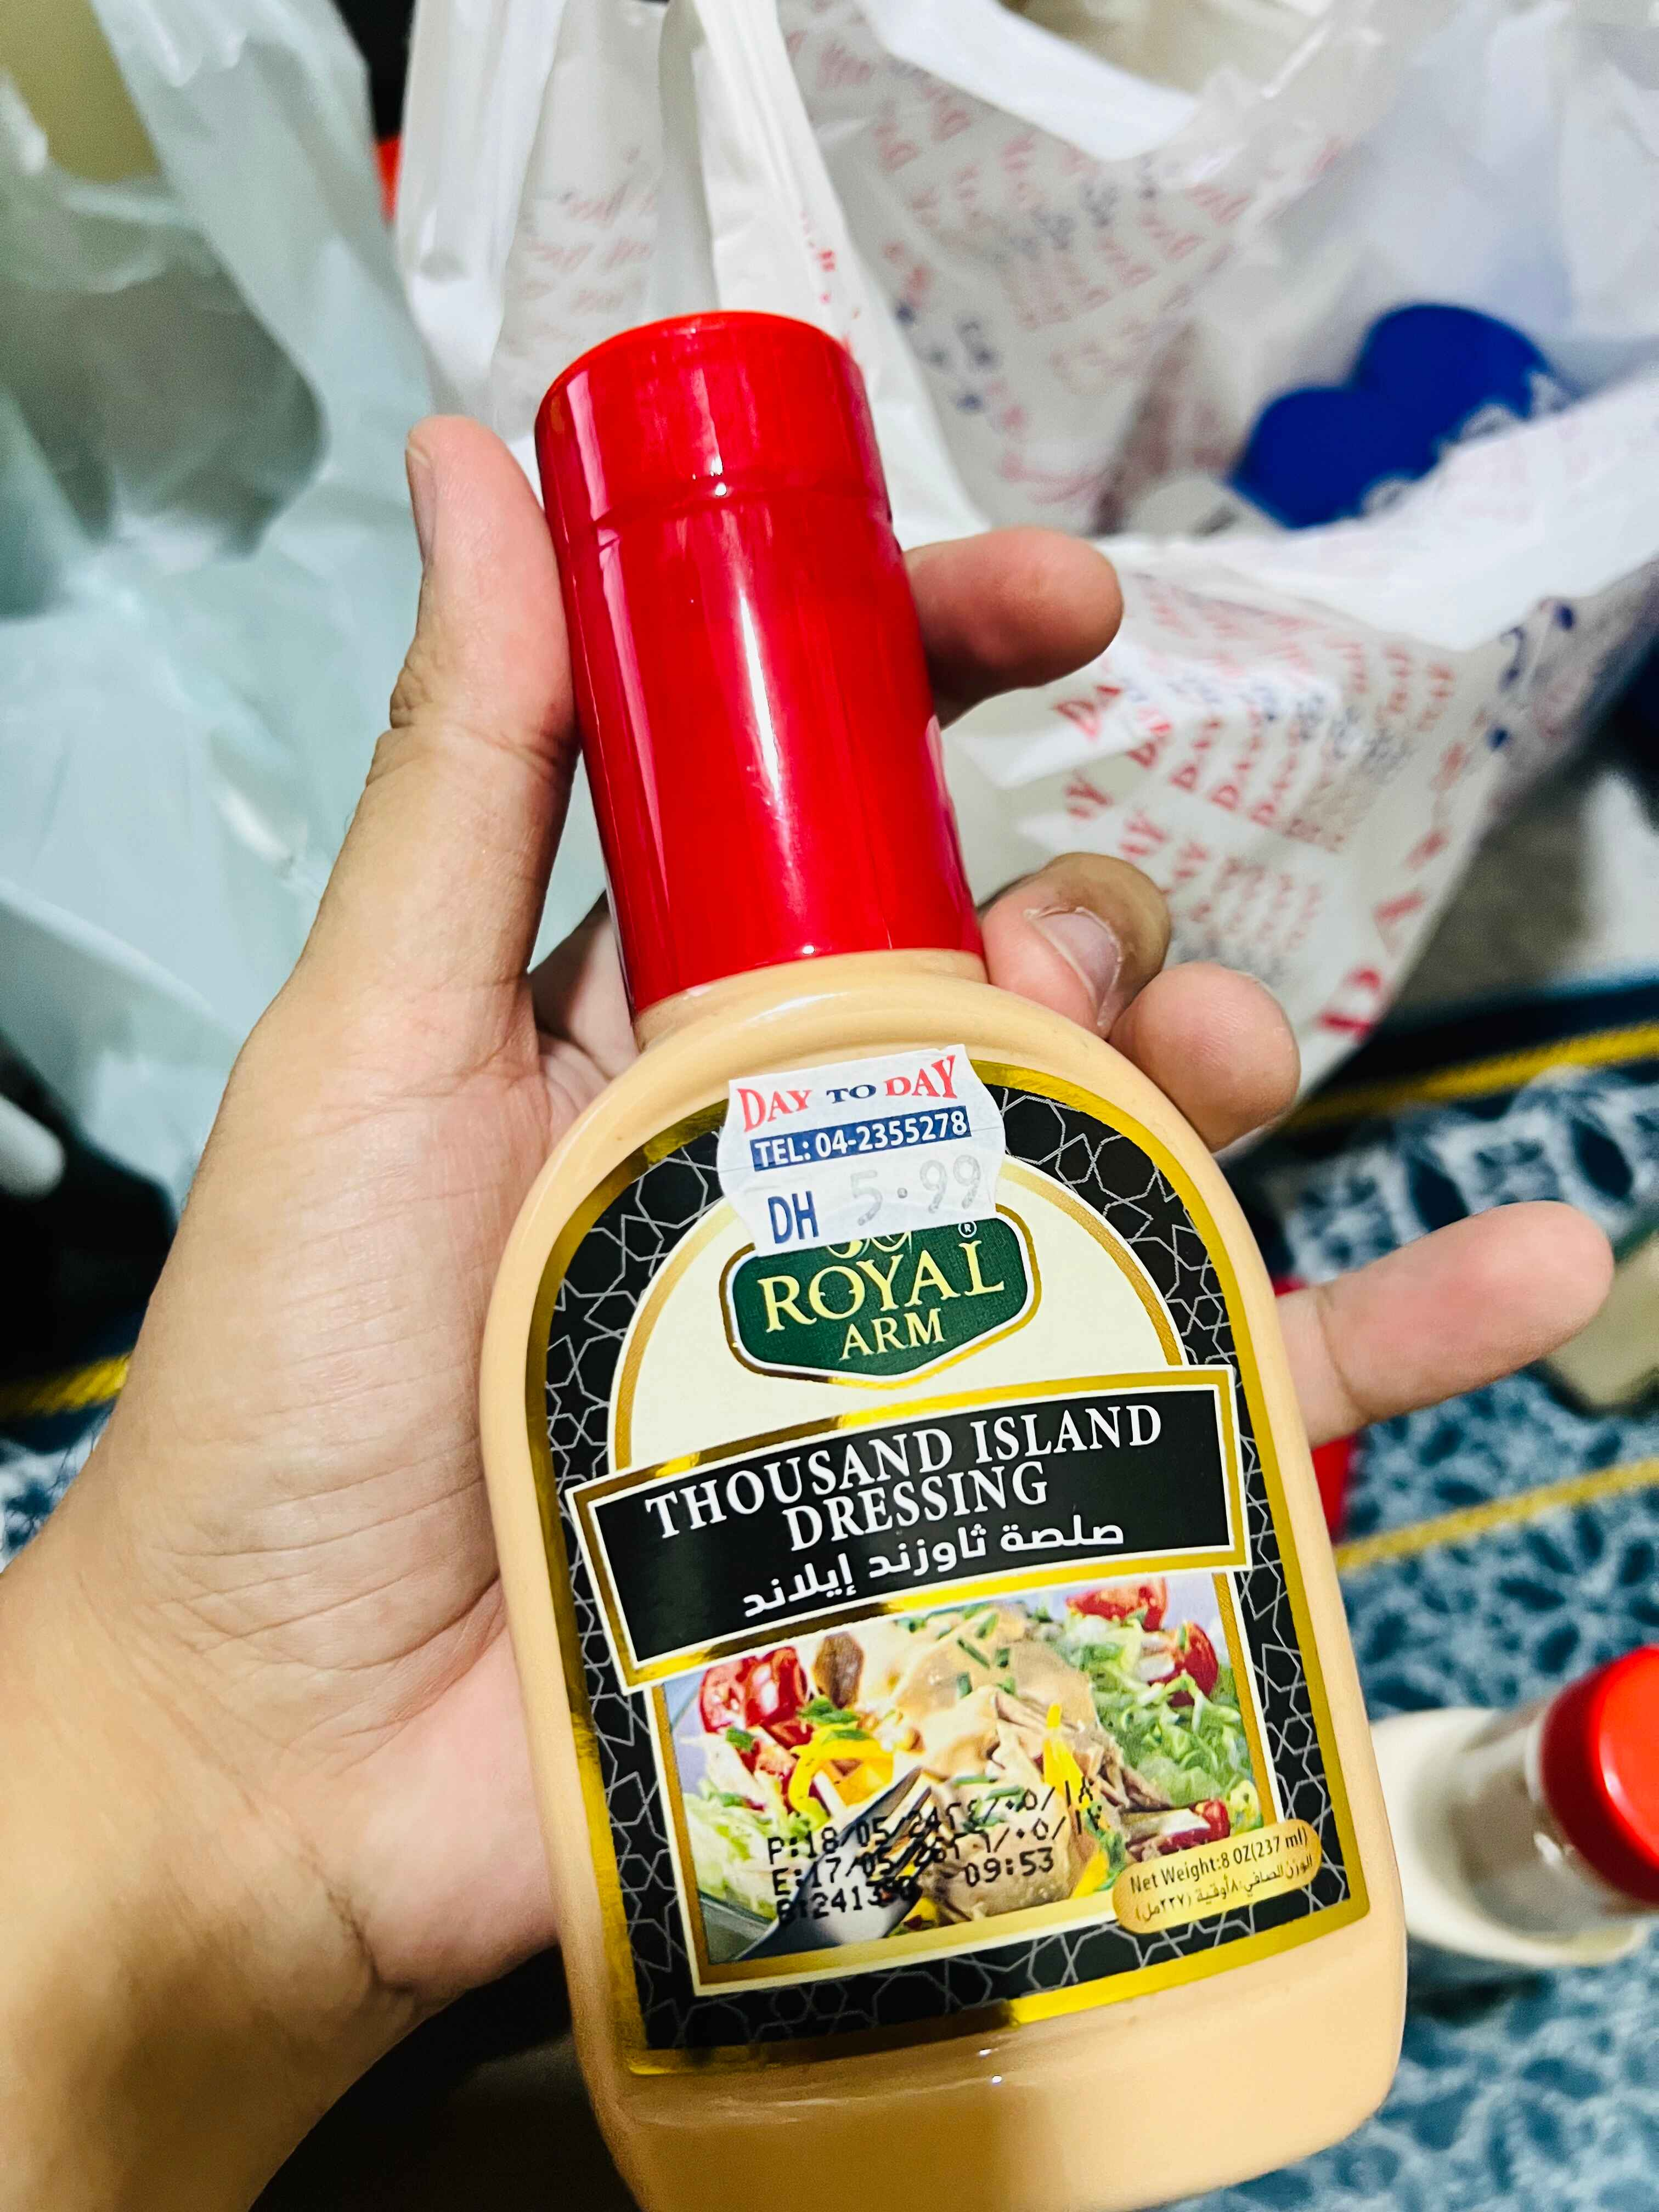PriceTagSmall: (721, 1042, 1012, 1254)
